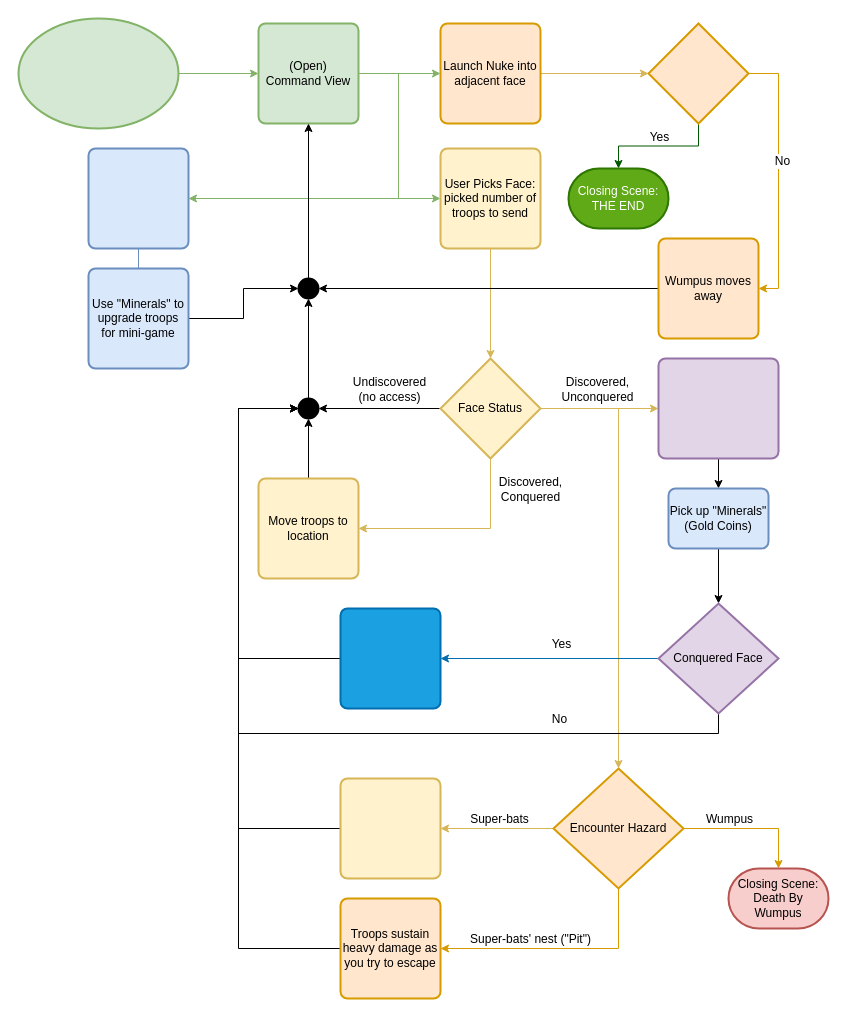
Some shapes in this 846 by 1016 pixel diagram are drawn without their labels. The shapes that lost their labels are listed below. From the top down, each one's box as (x1, y1, x2, y2) in pixels, then its label:
(17, 17, 179, 129): Opening Scene: Ship approaches planet and crash lands on face
(647, 22, 749, 124): Hit Wumpus?
(87, 147, 189, 249): Use "Minerals" to build satellite probe. Maybe get's you useful info
(657, 357, 779, 459): Play Mini-game: "Conquering the face"
(339, 607, 441, 709): Get Hints about adjacent faces, mark face as conquered
(339, 777, 441, 879): Troops gets teleported to another face
